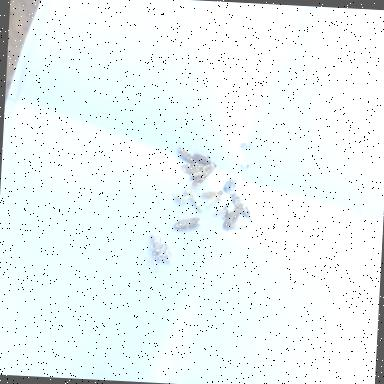pbw: (180, 160, 216, 188), (228, 190, 255, 223), (222, 206, 250, 232), (174, 211, 201, 232), (198, 188, 224, 206), (178, 146, 196, 165), (192, 152, 212, 164)
